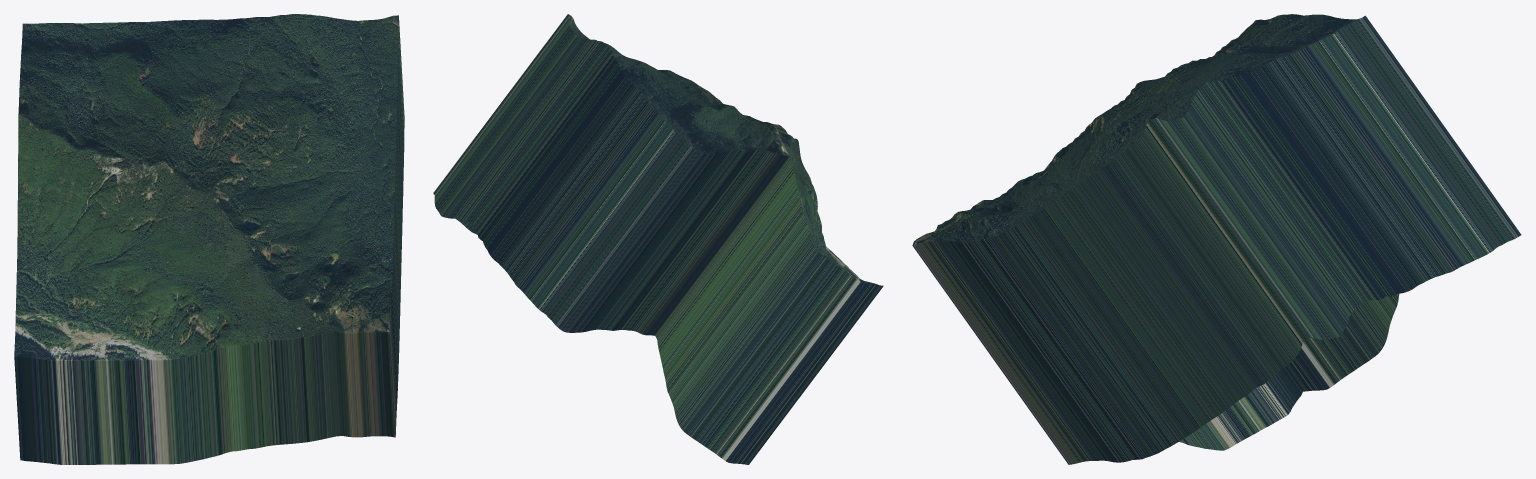
The picture shows the model from 3 angles, left to right: view 1: azimuth 30°, elevation 25°; view 2: azimuth 150°, elevation 25°; view 3: azimuth 270°, elevation 25°; orthographic projection. The views are drawn at different scales.
Size of the model in its own units: 5917 by 5193 by 6786.
1 material, 1 textured.
